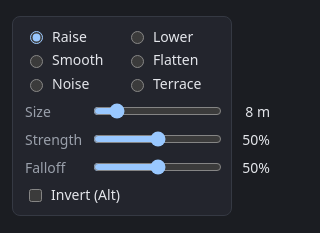
BrushPanel › shows and sets size, strength and falloff
Check: the text "8 m" is shown, box x1=245 y1=102 x2=270 y2=121
Check: the text "50%" is shown 2 times, box x1=242 y1=130 x2=270 y2=149; x1=242 y1=158 x2=270 y2=177
Set the slider labelled "Size" to "20" at (145, 111), box x1=93 y1=103 x2=222 y2=119
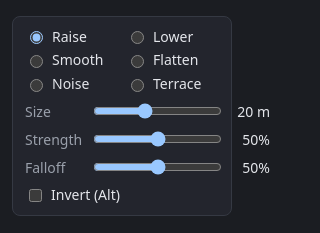
Set the slider labelled "Strength" to "0.8" at (191, 139), box x1=93 y1=131 x2=222 y2=147
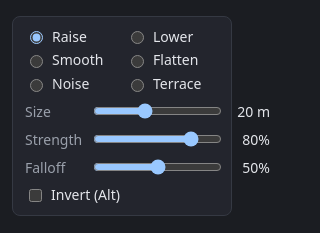
Set the slider labelled "Falloff" to "0.25" at (129, 167), box x1=93 y1=159 x2=222 y2=175
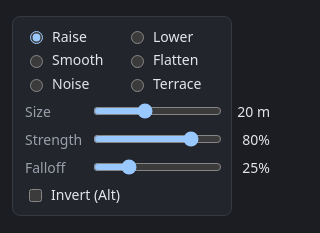
Check: the text "20 m" is shown, box x1=237 y1=102 x2=270 y2=121
Check: the text "80%" is shown, box x1=242 y1=130 x2=270 y2=149
Check: the text "25%" is shown, box x1=242 y1=158 x2=270 y2=177
